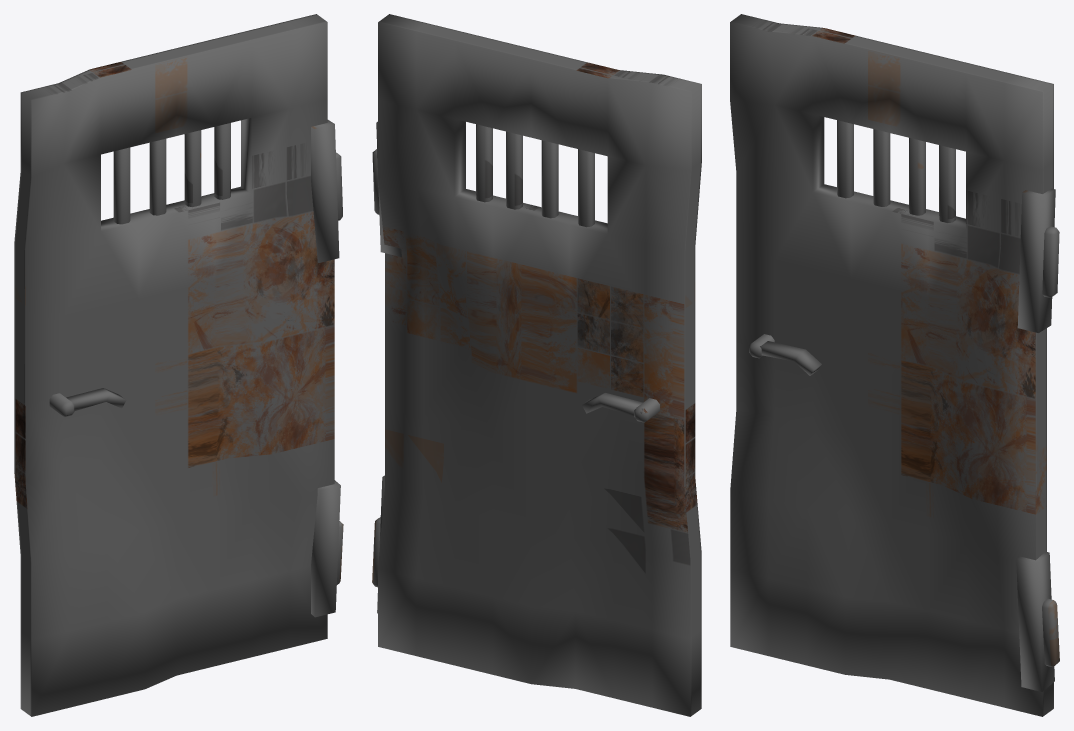
File: Door.fbx
The picture shows the model from 3 angles, left to right: view 1: azimuth 30°, elevation 25°; view 2: azimuth 150°, elevation 25°; view 3: azimuth 330°, elevation 25°; orthographic projection.
Parts seen in each view (by area): view 1: pCube33; view 2: pCube33; view 3: pCube33.
Part boxes in pixels (left/top/right/bottom): pCube33: left=14, top=14, right=343, bottom=716; pCube33: left=372, top=14, right=701, bottom=716; pCube33: left=730, top=14, right=1059, bottom=716.
Bounding box in the file's own units: 110 × 205 × 23.1.
